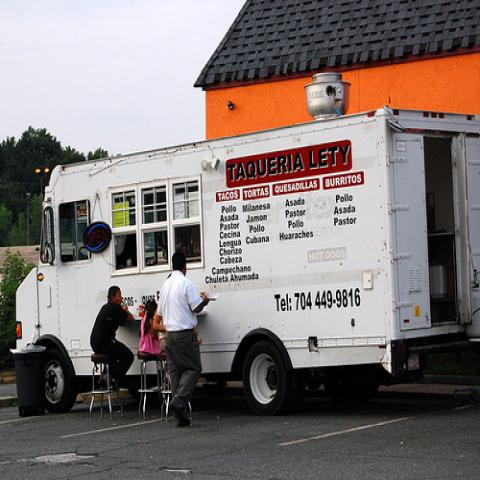truck: (13, 73, 479, 419)
